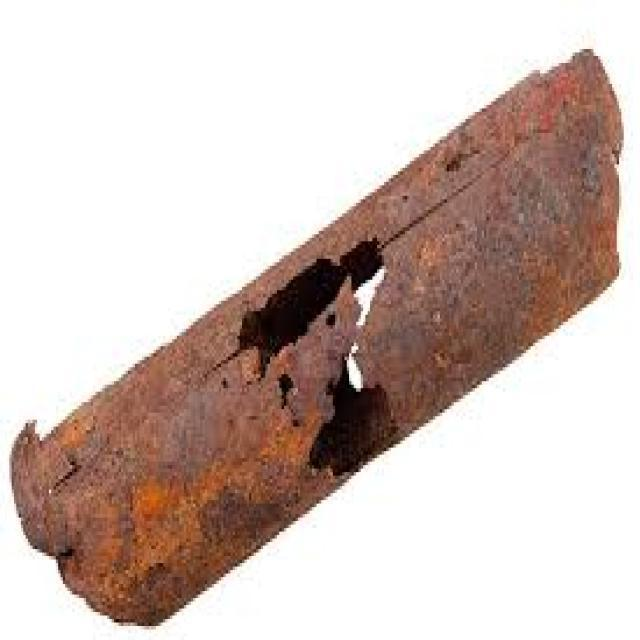hole: (240, 235, 391, 375), (309, 320, 400, 480)
